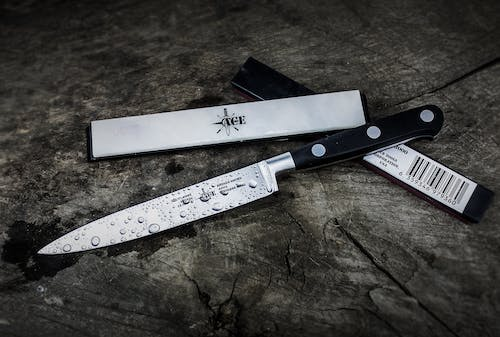knife: (36, 102, 445, 256)
